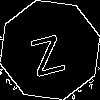Z: (25, 25, 67, 77)
